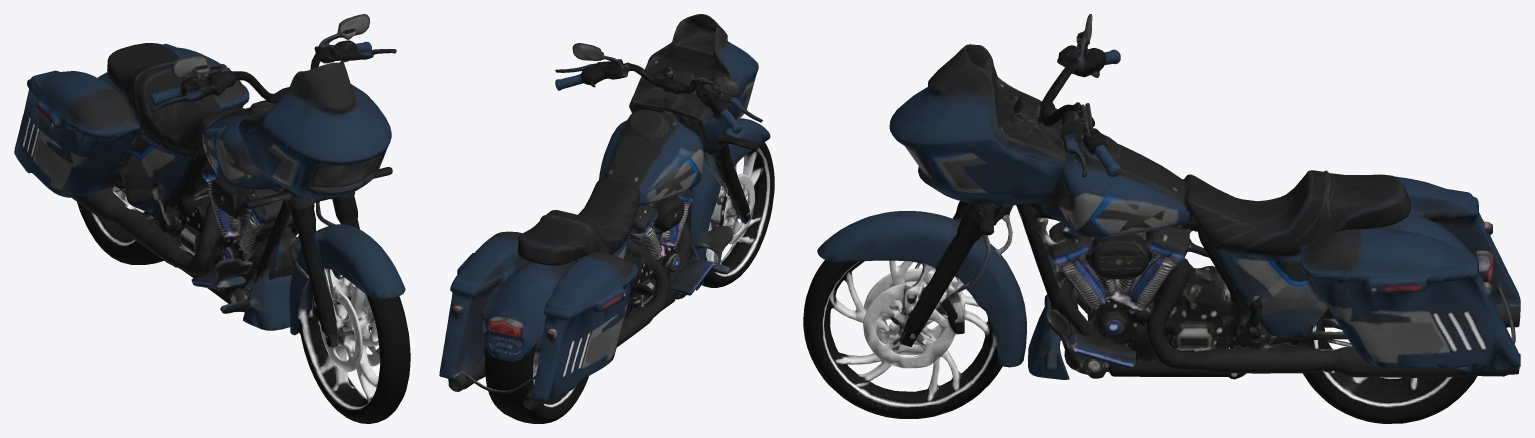
Rendered from harly.glb.
3 renders of one model, left to right at view 1: azimuth 30°, elevation 25°; view 2: azimuth 150°, elevation 25°; view 3: azimuth 270°, elevation 25°, orthographic. The views are drawn at different scales.
Visible parts, largest first — view 1: Object_4; view 2: Object_4; view 3: Object_4.
Boxes of the visible parts, left/top/right/bottom form: Object_4: left=14, top=14, right=410, bottom=423; Object_4: left=439, top=14, right=774, bottom=423; Object_4: left=803, top=14, right=1520, bottom=423.
Bounding box in the file's own units: 1.13 × 1.48 × 2.6.
Materials: 1 (1 with a texture image).
